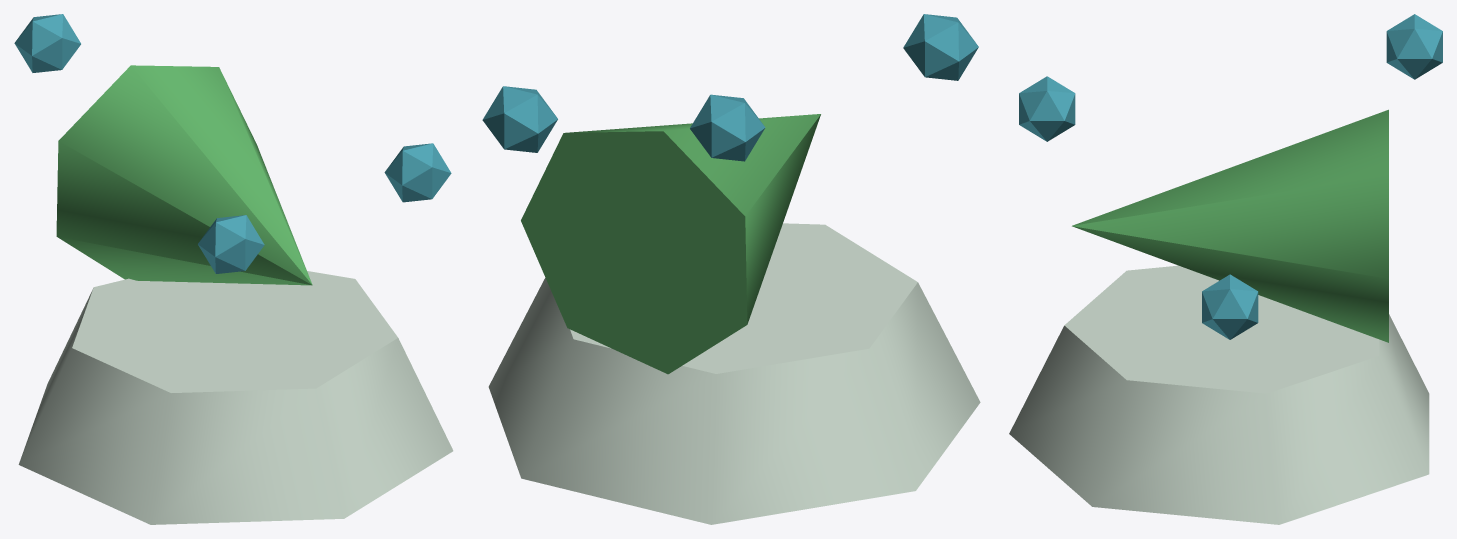
The model's file is child_02_memory.glb.
3 renders of one model, left to right at view 1: azimuth 30°, elevation 25°; view 2: azimuth 150°, elevation 25°; view 3: azimuth 270°, elevation 25°, orthographic. The views are drawn at different scales.
Visible parts, largest first — view 1: memory_pedestal, memory_symbol_child_02, memory_star_2, memory_star_0, memory_star_1; view 2: memory_pedestal, memory_symbol_child_02, memory_star_2, memory_star_0, memory_star_1; view 3: memory_pedestal, memory_symbol_child_02, memory_star_2, memory_star_0, memory_star_1.
Boxes of the visible parts, x1=… form: memory_pedestal: x1=18, y1=271, x2=453, y2=524; memory_symbol_child_02: x1=56, y1=65, x2=312, y2=285; memory_star_2: x1=14, y1=14, x2=80, y2=72; memory_star_0: x1=384, y1=143, x2=451, y2=202; memory_star_1: x1=198, y1=215, x2=264, y2=273; memory_pedestal: x1=488, y1=223, x2=980, y2=524; memory_symbol_child_02: x1=521, y1=114, x2=820, y2=374; memory_star_2: x1=690, y1=94, x2=765, y2=161; memory_star_0: x1=482, y1=86, x2=557, y2=152; memory_star_1: x1=903, y1=14, x2=978, y2=80; memory_pedestal: x1=1009, y1=265, x2=1429, y2=524; memory_symbol_child_02: x1=1072, y1=109, x2=1388, y2=342; memory_star_2: x1=1386, y1=14, x2=1442, y2=79; memory_star_0: x1=1202, y1=274, x2=1258, y2=339; memory_star_1: x1=1019, y1=76, x2=1075, y2=141.
Size of what is drawn, in the model's own units: 2.47 by 2.21 by 2.36.
